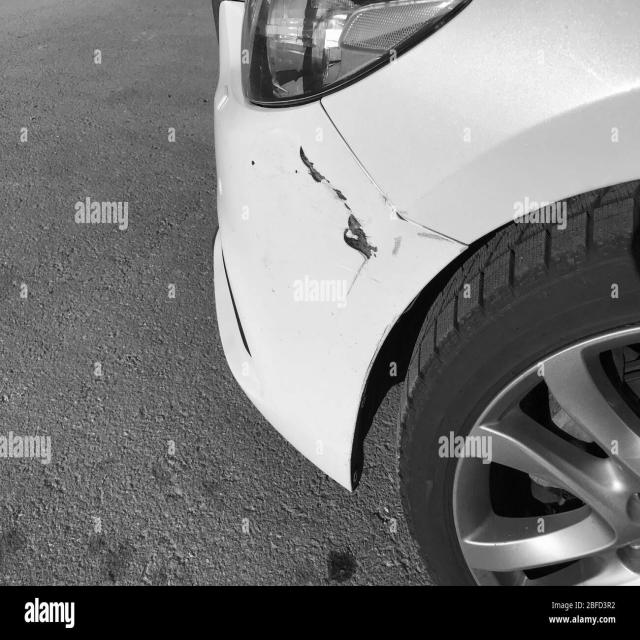scratch: (296, 142, 382, 300), (357, 312, 403, 396), (377, 191, 410, 223), (415, 229, 455, 245), (390, 234, 402, 258)
